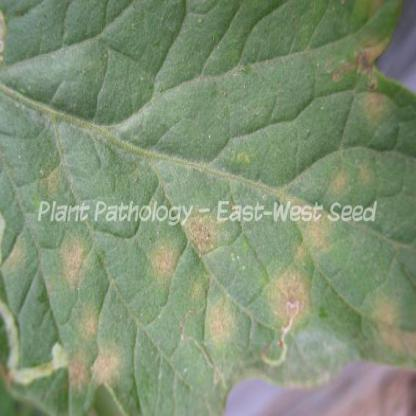Tomato mold leaf: (3, 5, 415, 415)
